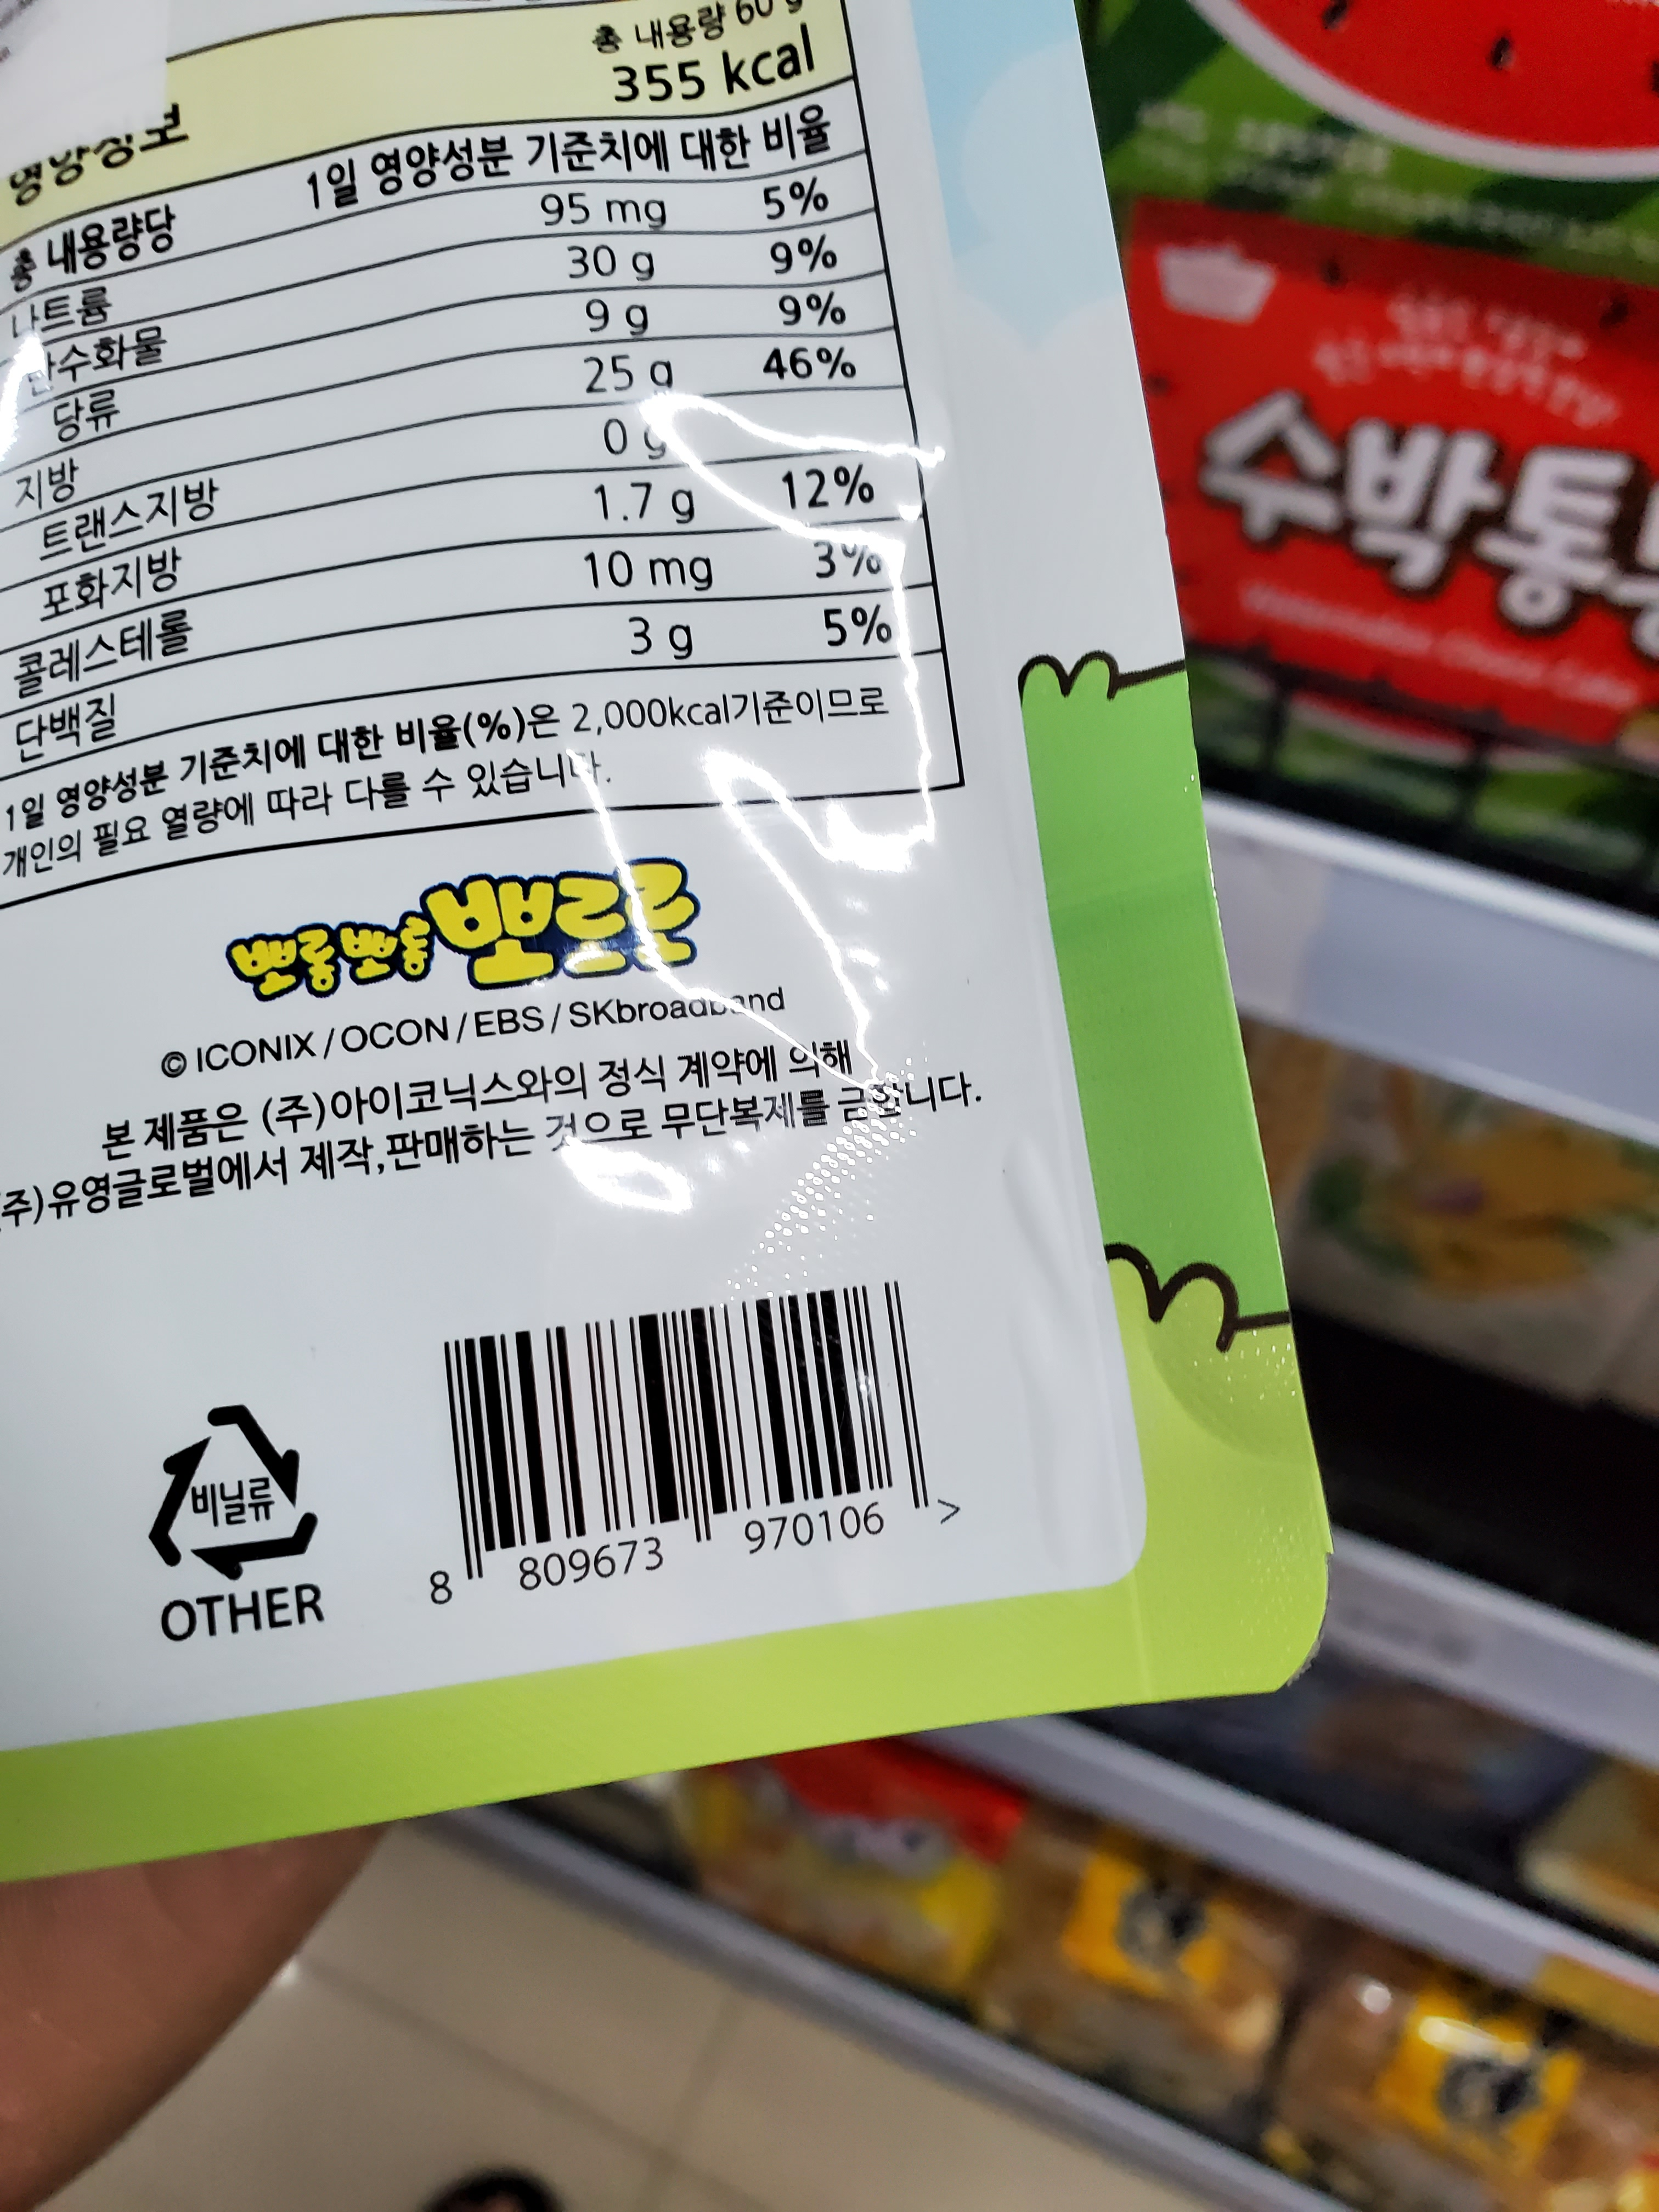barcode: (342, 1266, 1016, 1618)
